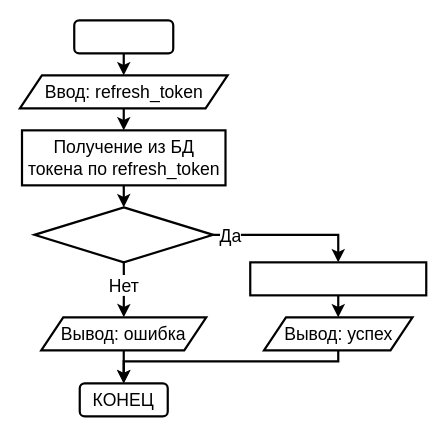
Some shapes in this 447 by 436 pixel diagram are drawn without their labels. Each missing label, with the box of its shape:
НАЧАЛО: (73, 19, 174, 54)
Отзыв refresh_token: (249, 261, 427, 296)
Токен валиден: (33, 206, 214, 263)
